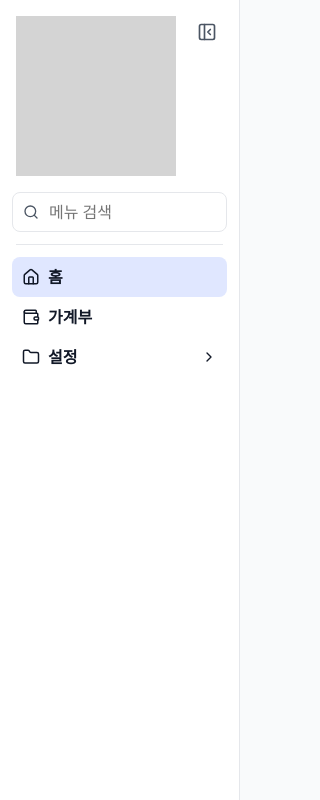
Scenario: Sidebar › filters menus by the search keyword
The width and height of the screenshot is (320, 800).
Check: the link "가계부" is shown, box [22,306,92,328]
In the search field labelled "메뉴 검색": (132, 212) [47,199,216,225], type "관리"
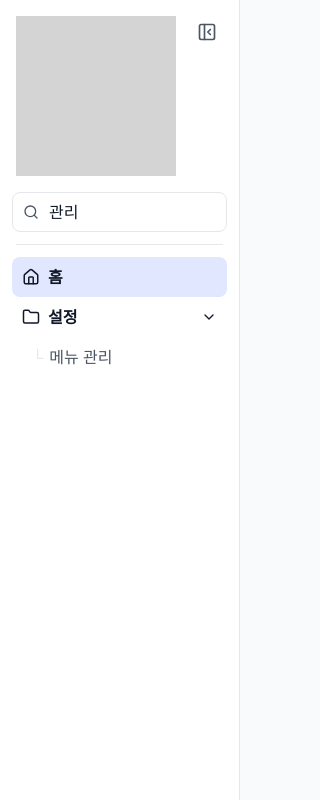
Check: the link "가계부" is gone
Check: the link "└ 메뉴 관리" is shown, box [32,346,112,368]
